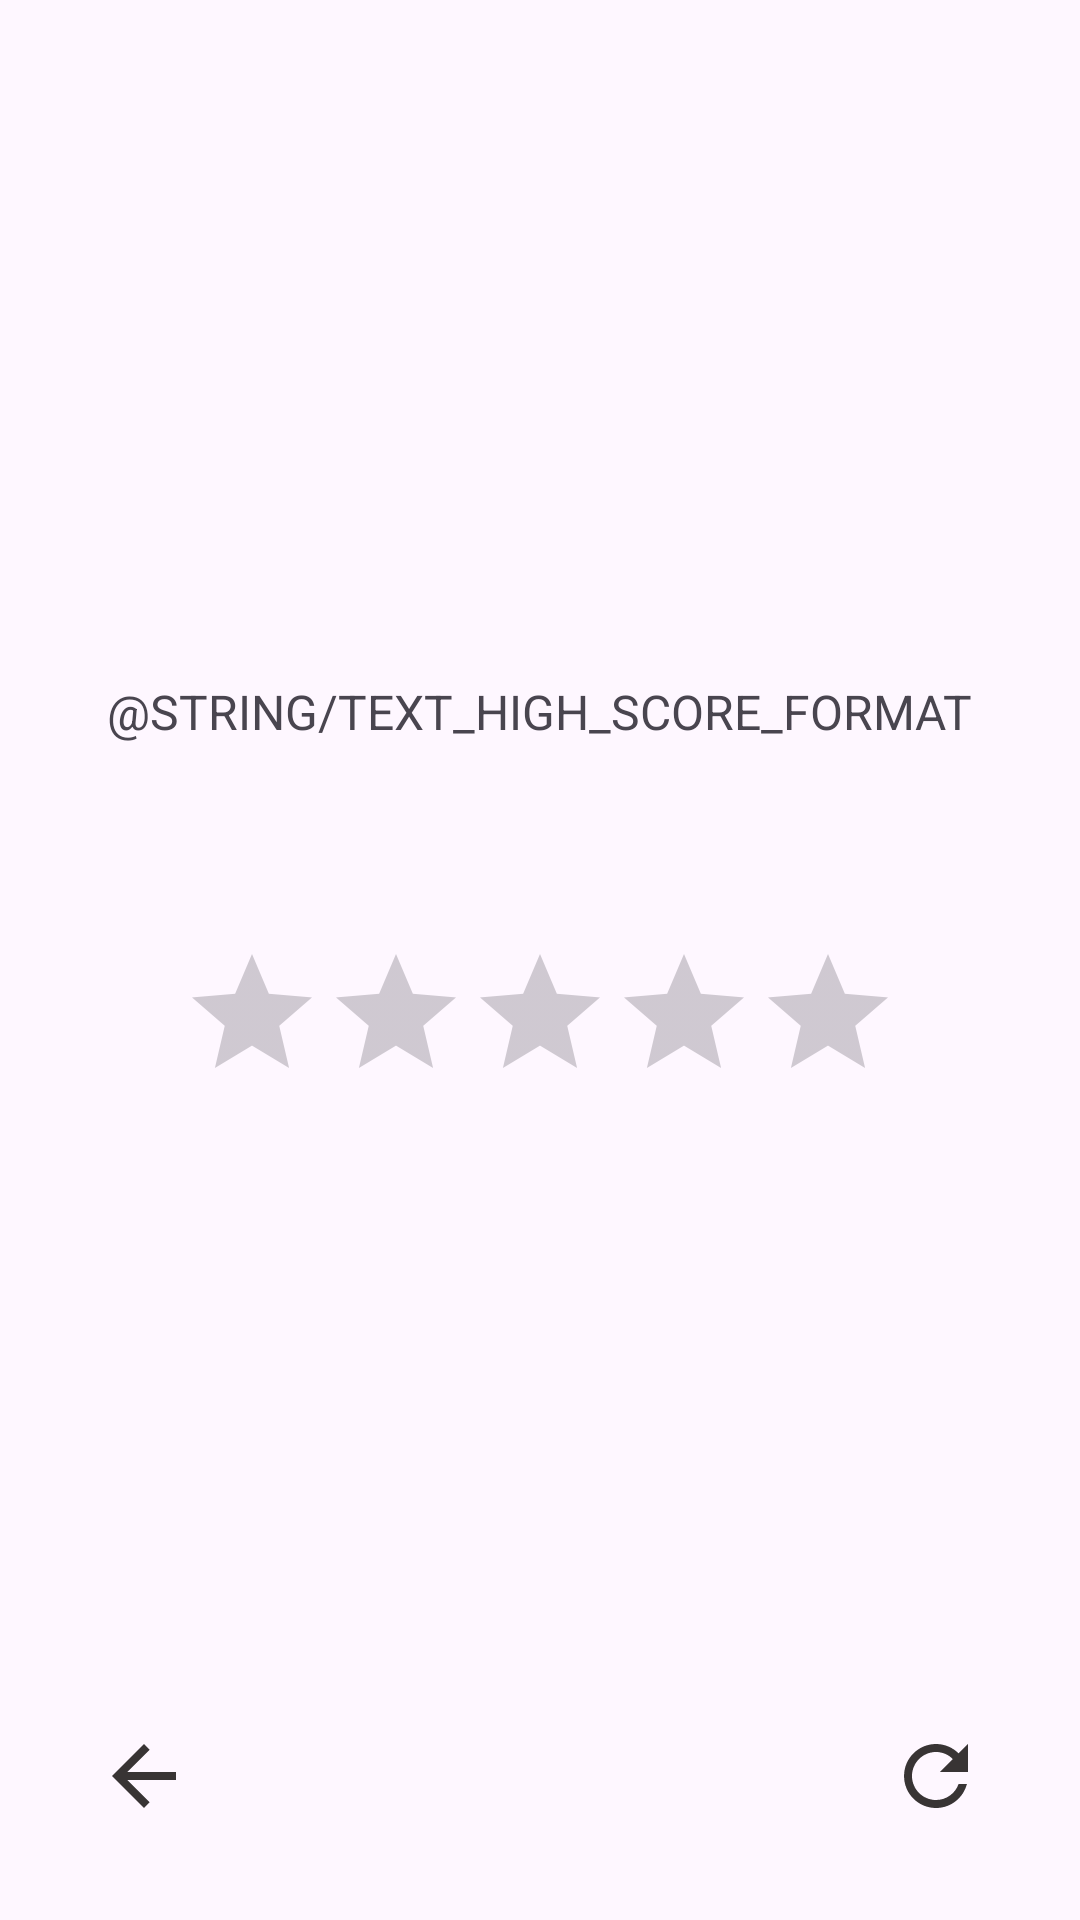

Locate icon controls on the screen. Image size 1080px x 1920px, boxes as bbox=(x1, y1, x2, y2).
arrow back: bbox=(112, 1744, 176, 1808)
refresh: bbox=(904, 1744, 968, 1808)
